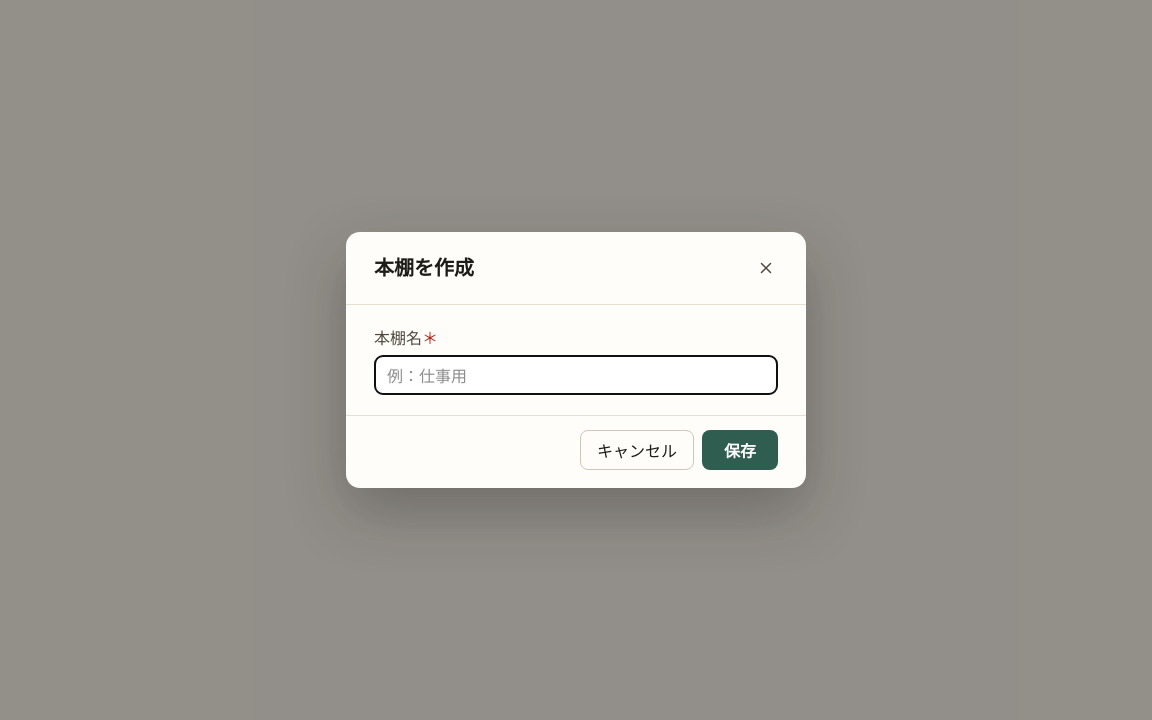
Test: 作成モード › 本棚名が未入力なら、入力欄の下にエラーを表示して送らない
Click the button "保存". click: (740,450)
box: [702,430,778,470]
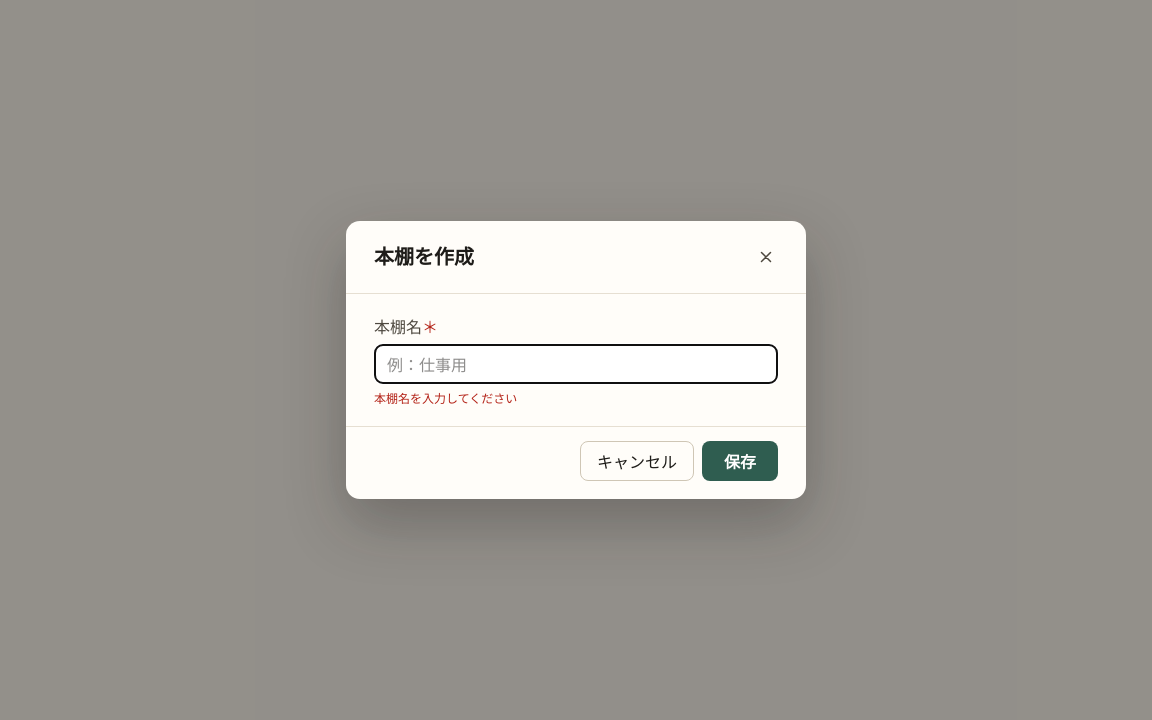
Result: the text "本棚名を入力してください" is shown at [374,389,517,406]
